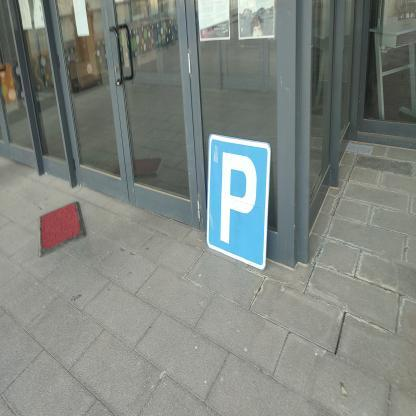parking: (208, 132, 270, 271)
